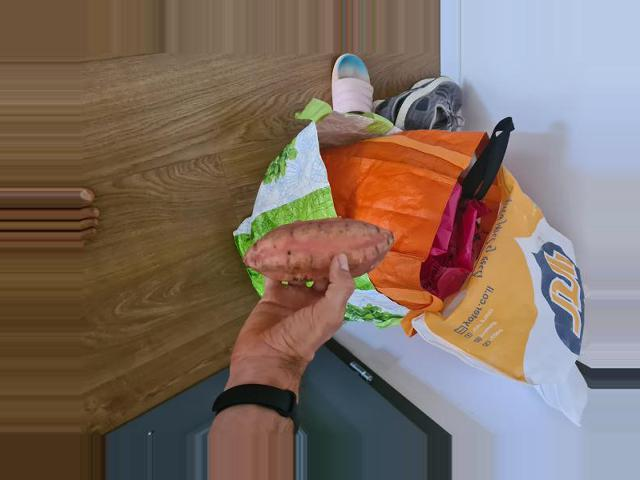sweet_potato: (239, 221, 395, 288)
